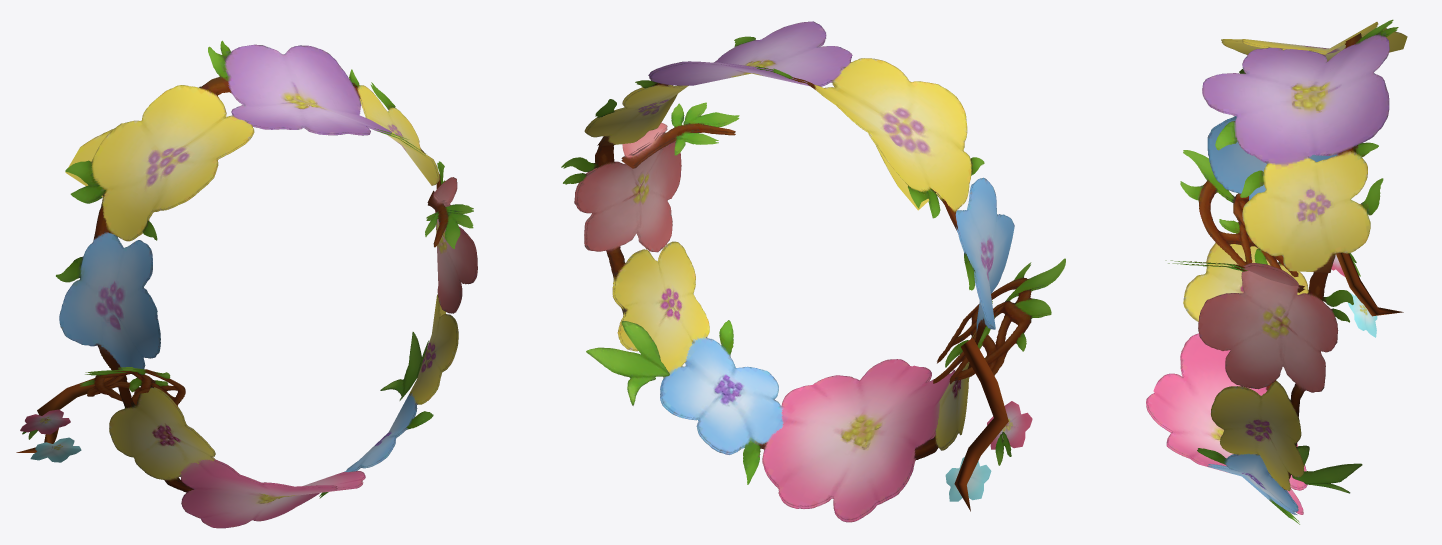
Rendered from helm11001.fbx.
3 renders of one model, left to right at view 1: azimuth 30°, elevation 25°; view 2: azimuth 150°, elevation 25°; view 3: azimuth 270°, elevation 25°, orthographic. The views are drawn at different scales.
Parts seen in each view (by area): view 1: helm11001; view 2: helm11001; view 3: helm11001.
Part boxes in pixels (x1,y1,x2,y2): helm11001: [16, 40, 477, 528]; helm11001: [561, 21, 1065, 522]; helm11001: [1146, 19, 1407, 524].
Bounding box in the file's own units: 0.4163 × 0.4225 × 0.2264.
1 material, 1 textured.
